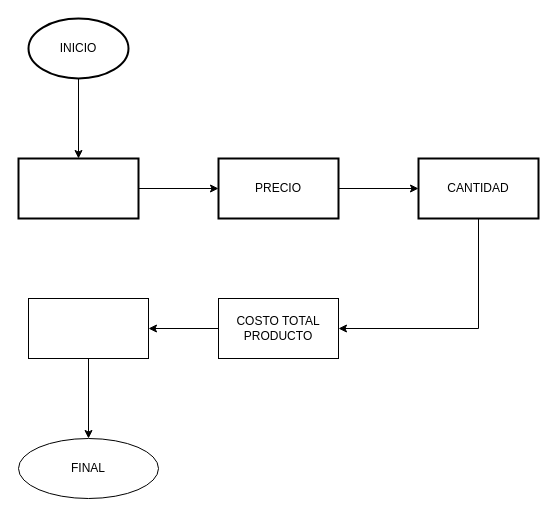
Some shapes in this 556 by 516 pixel diagram are drawn without their labels. The shapes that lost their labels are listed below. From the top down, each one's centre as x and y in pixels, then its label:
At [78,188]: "PRODUCTO A REGISTRAR".
At [88,328]: "RESULTADO FINAL".
